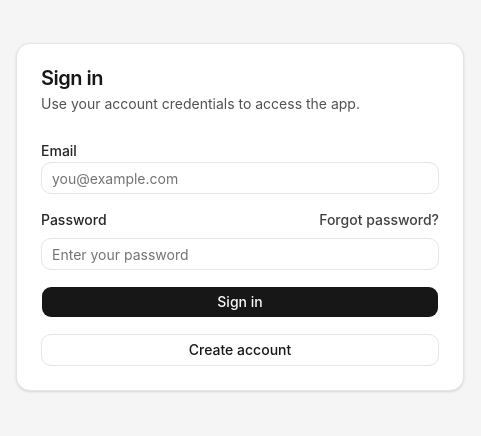
it: LoginPage › shows backend error on failed login
In the field labelled "Email": {"x": 240, "y": 178} [41,162,439,194], type "john@doe.com"
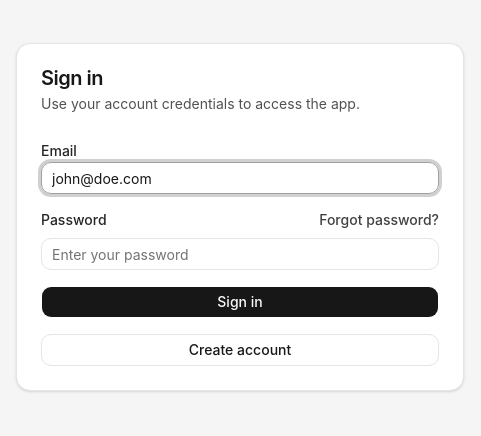
In the password field labelled "Password": {"x": 240, "y": 254} [41,238,439,270], type "wrong-password"
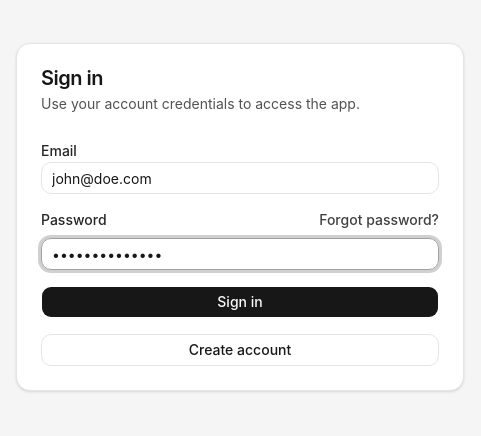
Click the button "Sign in": {"x": 240, "y": 302} [41,286,439,318]
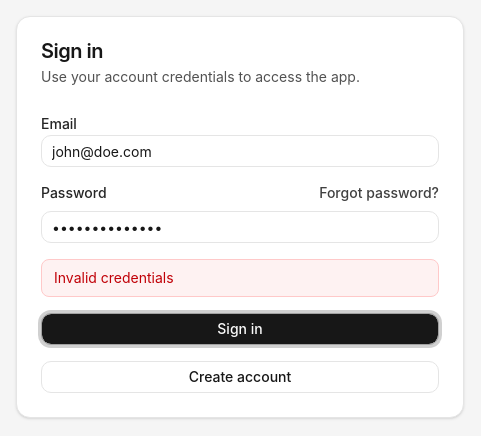
Expected: the text "Invalid credentials" is shown, [41,259,439,297]
